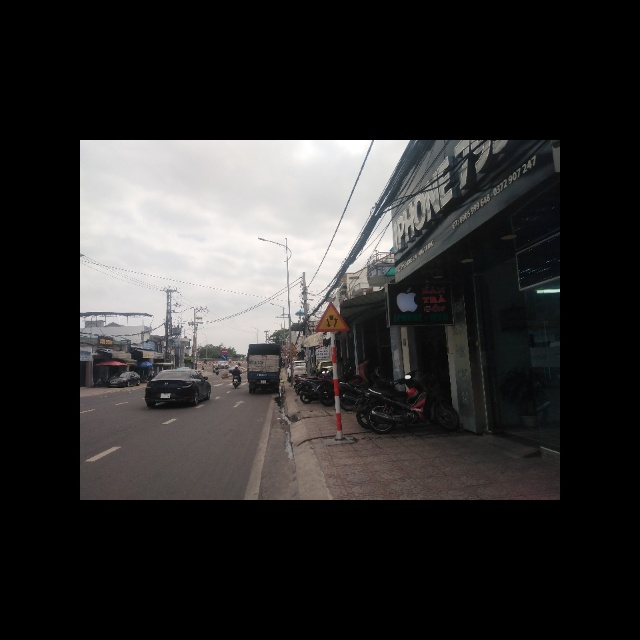Đường đôi: (314, 301, 350, 334)
